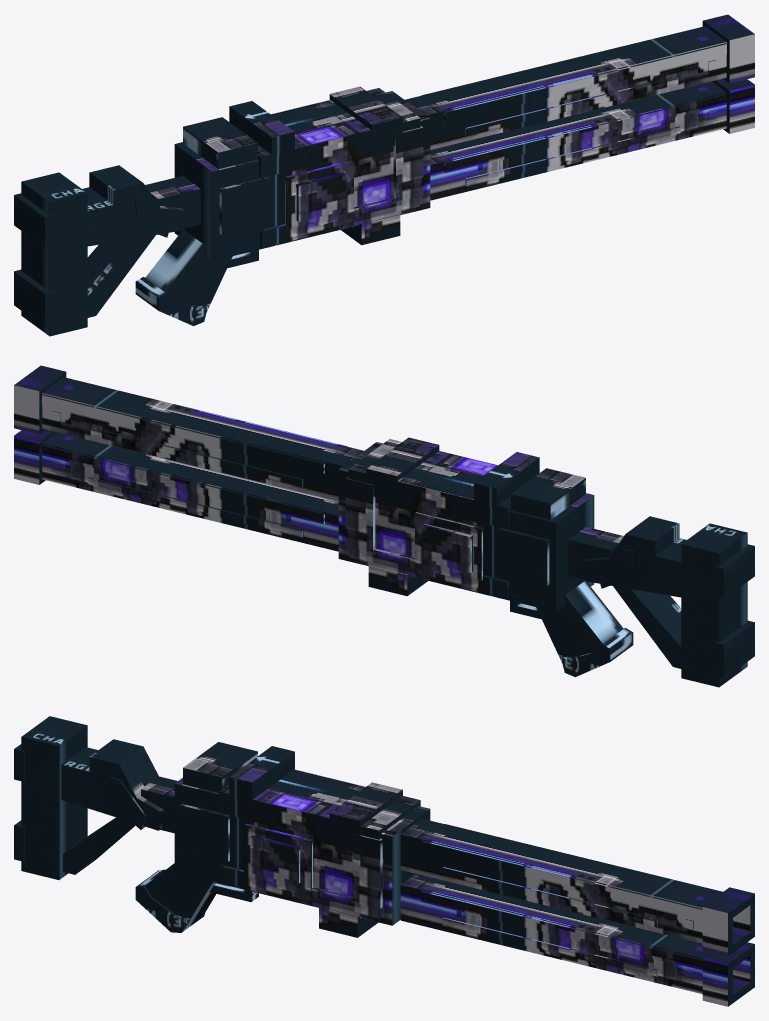
Rendered from starcore_railgun.obj.
3 renders of one model, top to bottom at view 1: azimuth 30°, elevation 25°; view 2: azimuth 150°, elevation 25°; view 3: azimuth 330°, elevation 25°, orthographic.
Size of the model in its own units: 1.98 by 0.475 by 0.2314.
